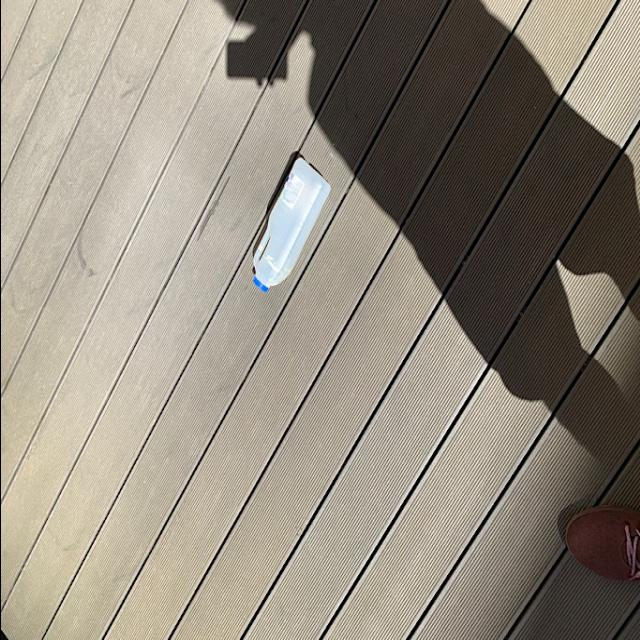HDPEM: (248, 155, 330, 294)
